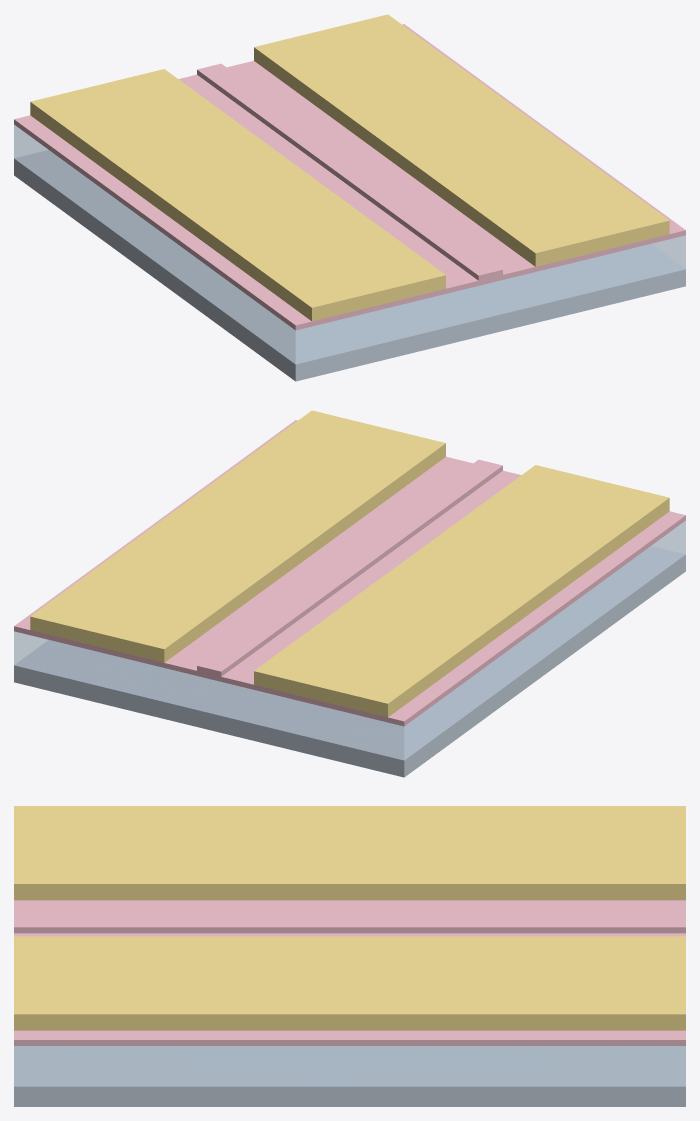
Rendered from stack-tfln.glb.
3 renders of one model, top to bottom at view 1: azimuth 30°, elevation 25°; view 2: azimuth 150°, elevation 25°; view 3: azimuth 270°, elevation 25°, orthographic. The views are drawn at different scales.
Parts seen in each view (by area): view 1: gold, sisub, ln, box; view 2: gold, sisub, ln, box; view 3: gold, sisub, ln, box.
Part boxes in pixels (bbox=[...]): gold: bbox=[30, 14, 669, 321]; sisub: bbox=[14, 150, 685, 381]; ln: bbox=[14, 24, 685, 330]; box: bbox=[14, 124, 685, 363]; gold: bbox=[30, 410, 669, 717]; sisub: bbox=[14, 546, 685, 777]; ln: bbox=[14, 420, 685, 726]; box: bbox=[14, 520, 685, 759]; gold: bbox=[14, 806, 685, 1030]; sisub: bbox=[14, 1046, 685, 1106]; ln: bbox=[14, 900, 685, 1045]; box: bbox=[14, 1046, 685, 1086].
Size of the model in its own units: 24 by 4.1 by 30.
